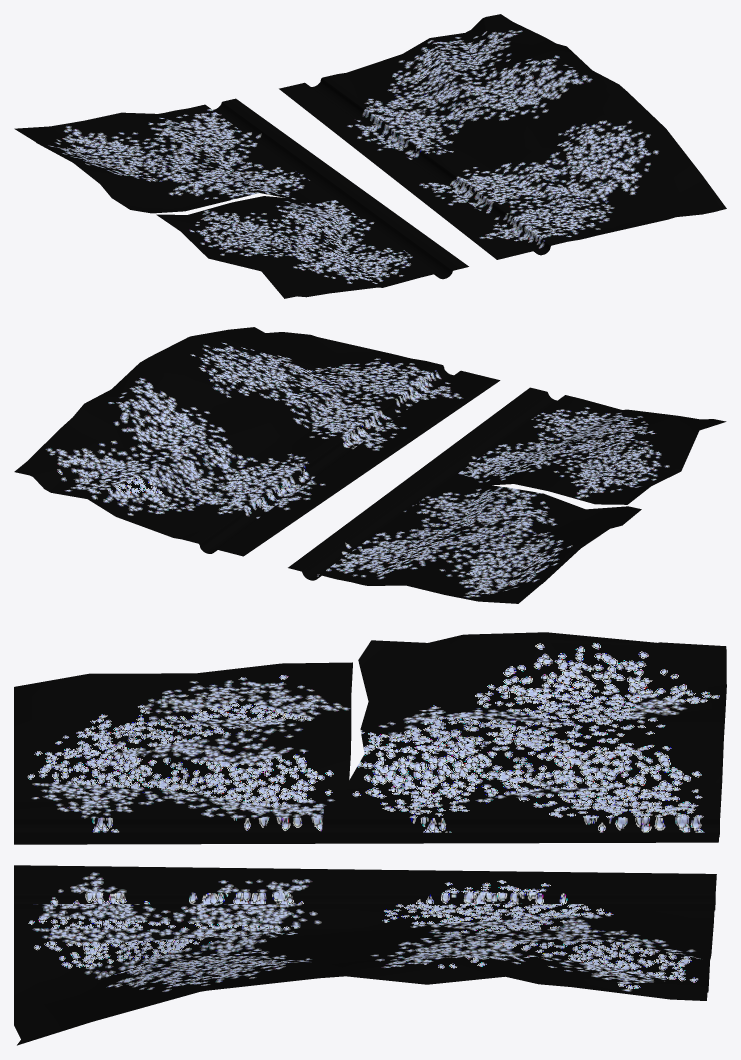
Rendered from sakura_falls.fbx.
3 renders of one model, top to bottom at view 1: azimuth 30°, elevation 25°; view 2: azimuth 150°, elevation 25°; view 3: azimuth 270°, elevation 25°, orthographic. The views are drawn at different scales.
Visible parts, largest first — view 1: sakura_falls; view 2: sakura_falls; view 3: sakura_falls.
Part boxes in pixels (x1,y1,x2,y2): sakura_falls: (14, 14, 726, 298); sakura_falls: (14, 327, 726, 603); sakura_falls: (14, 632, 726, 1045).
Size of the model in its own units: 125 by 11.7 by 105.
1 material, 1 textured.
